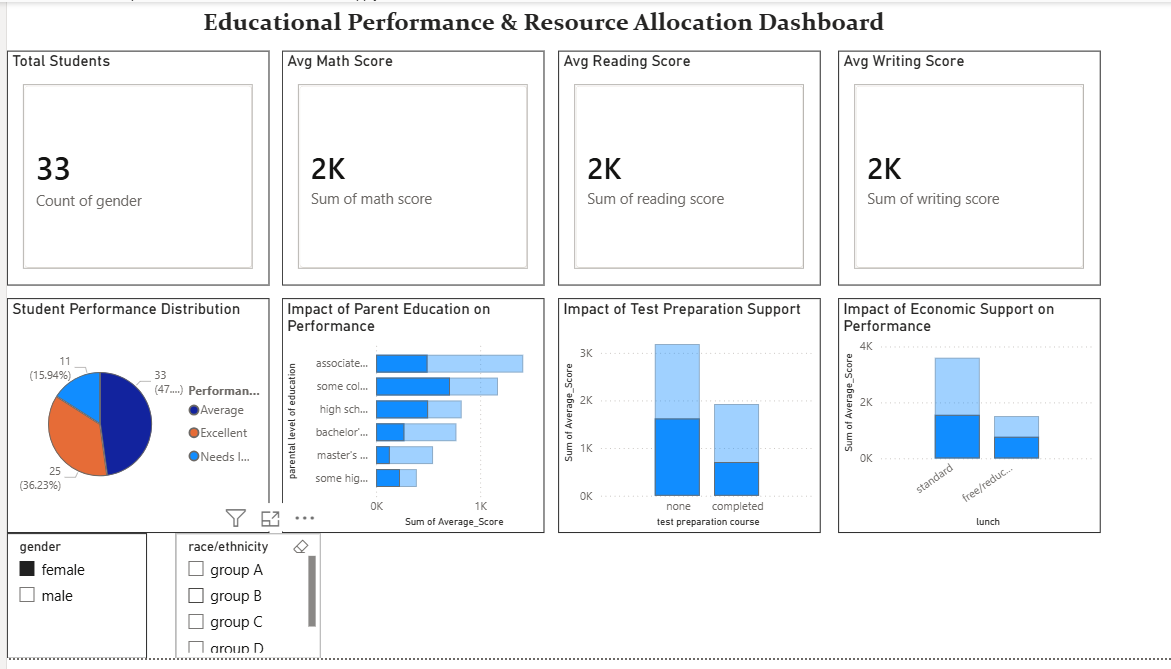

Layout of this report page (visuals, bound fields, positions):
{"tool":"powerbi","page":{"name":"Page 1","canvas":[1280,720],"ordinal":0},"visuals":[{"type":"textbox","box":[9.6,0,1191.1,53.5],"z":0},{"type":"cardVisual","title":"Total Students","fields":{"Data":["CountNonNull(StudentsPerformance (2).gender)"]},"box":[0,53.5,288.2,258],"z":1},{"type":"cardVisual","title":"Avg Math Score","fields":{"Data":["Sum(StudentsPerformance (2).math score)"]},"box":[301.9,53.5,288.2,258],"z":2},{"type":"cardVisual","title":"Avg Reading Score","fields":{"Data":["Sum(StudentsPerformance (2).reading score)"]},"box":[605.1,53.5,288.2,258],"z":3},{"type":"cardVisual","title":"Avg Writing Score","fields":{"Data":["Sum(StudentsPerformance (2).writing score)"]},"box":[912.5,53.5,288.2,258],"z":4},{"type":"pieChart","title":"Student Performance Distribution","fields":{"Category":["StudentsPerformance (2).Performance_Category"],"Y":["CountNonNull(StudentsPerformance (2).gender)"]},"box":[0,325.2,288.2,258],"z":5},{"type":"clusteredBarChart","title":"Impact of Parent Education on Performance","fields":{"Category":["StudentsPerformance (2).parental level of education"],"Y":["Sum(StudentsPerformance (2).Average_Score)"]},"box":[301.9,325.2,288.2,258],"z":6},{"type":"clusteredColumnChart","title":"Impact of Test Preparation Support","fields":{"Category":["StudentsPerformance (2).test preparation course"],"Y":["Sum(StudentsPerformance (2).Average_Score)"]},"box":[605.1,325.2,288.2,258],"z":7},{"type":"clusteredColumnChart","title":"Impact of Economic Support on Performance","fields":{"Category":["StudentsPerformance (2).lunch"],"Y":["Sum(StudentsPerformance (2).Average_Score)"]},"box":[912.5,325.2,288.2,258],"z":8},{"type":"slicer","fields":{"Values":["StudentsPerformance (2).gender"]},"box":[0,583.2,153.7,137.2],"z":9},{"type":"slicer","fields":{"Values":["StudentsPerformance (2).race/ethnicity"]},"box":[185.2,583.2,159.2,137.2],"z":10}]}

Visuals, with their boxes in screenshot pixels (x1, y1, x2, y2), scaled from the page's 1280x720 canvas onto the 1171x669 screenshot:
textbox: 9,0,1098,50
"Total Students" cardVisual: 0,50,264,289
"Avg Math Score" cardVisual: 276,50,540,289
"Avg Reading Score" cardVisual: 554,50,817,289
"Avg Writing Score" cardVisual: 835,50,1098,289
"Student Performance Distribution" pieChart: 0,302,264,542
"Impact of Parent Education on Performance" clusteredBarChart: 276,302,540,542
"Impact of Test Preparation Support" clusteredColumnChart: 554,302,817,542
"Impact of Economic Support on Performance" clusteredColumnChart: 835,302,1098,542
slicer - StudentsPerformance (2).gender: 0,542,141,668
slicer - StudentsPerformance (2).race/ethnicity: 169,542,315,668
